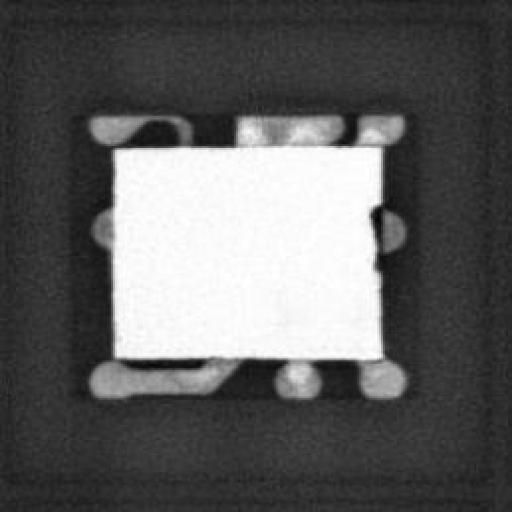DIE_BROKEN: (361, 197, 385, 277)
